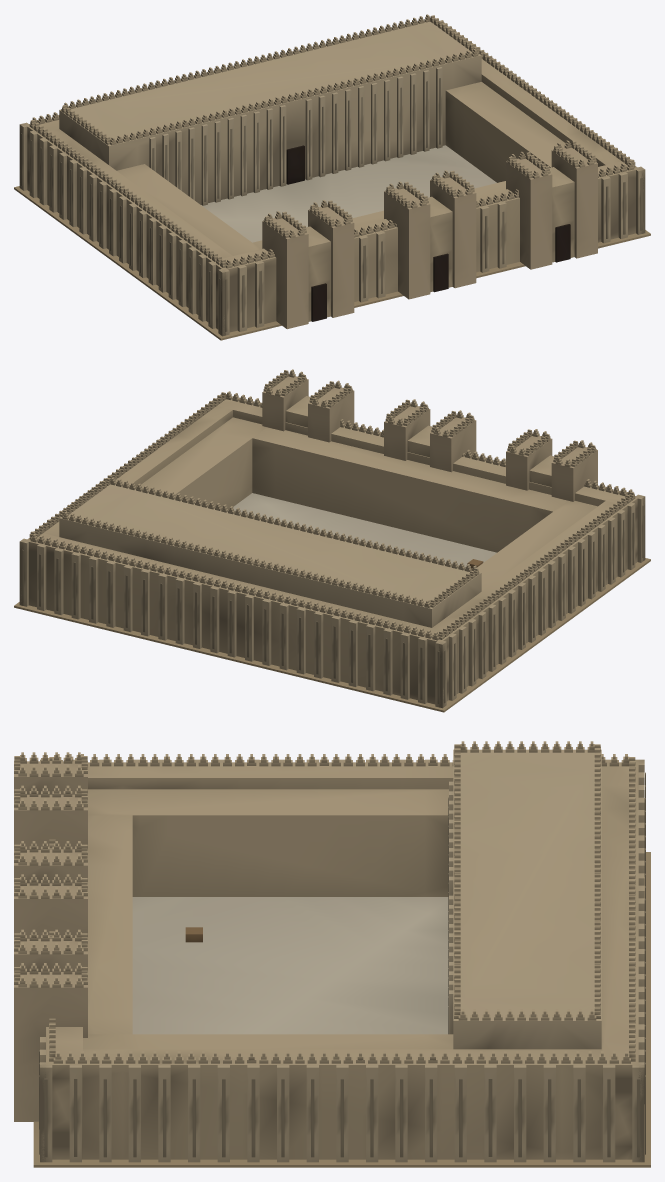
Rendered from ninurta-temple.glb.
The picture shows the model from 3 angles, top to bottom: view 1: azimuth 30°, elevation 25°; view 2: azimuth 150°, elevation 25°; view 3: azimuth 270°, elevation 25°; orthographic projection. The views are drawn at different scales.
Visible parts, largest first — view 1: p1_court and cella, p2_gate towers, p0_walls; view 2: p1_court and cella, p0_walls, p2_gate towers; view 3: p1_court and cella, p0_walls, p2_gate towers.
Boxes of the visible parts, <box> form: p1_court and cella: <box>59,21,565,255</box>; p2_gate towers: <box>29,14,635,329</box>; p0_walls: <box>14,22,650,340</box>; p1_court and cella: <box>59,417,597,627</box>; p0_walls: <box>14,394,650,712</box>; p2_gate towers: <box>29,369,635,640</box>; p1_court and cella: <box>83,749,601,1049</box>; p0_walls: <box>33,759,650,1167</box>; p2_gate towers: <box>14,741,635,1121</box>.
Size of the model in its own units: 60 by 13.05 by 51.6.
